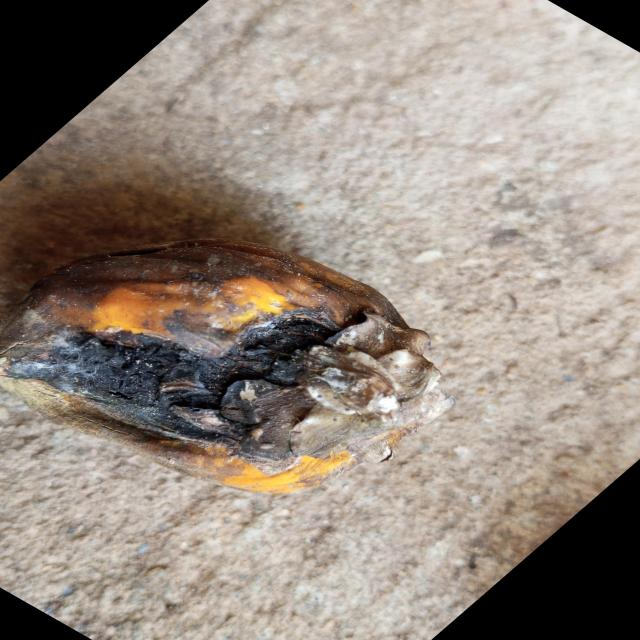damaged: (0, 240, 454, 492)
